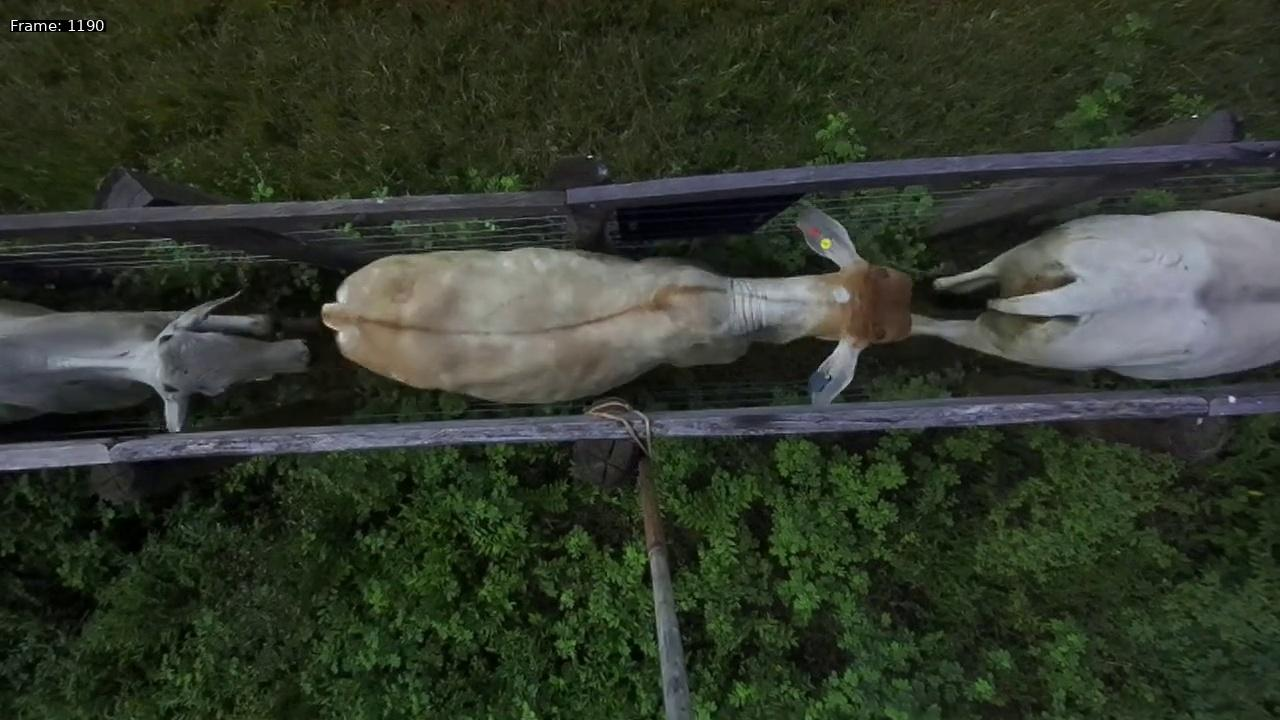cattle: (314, 185, 923, 417)
